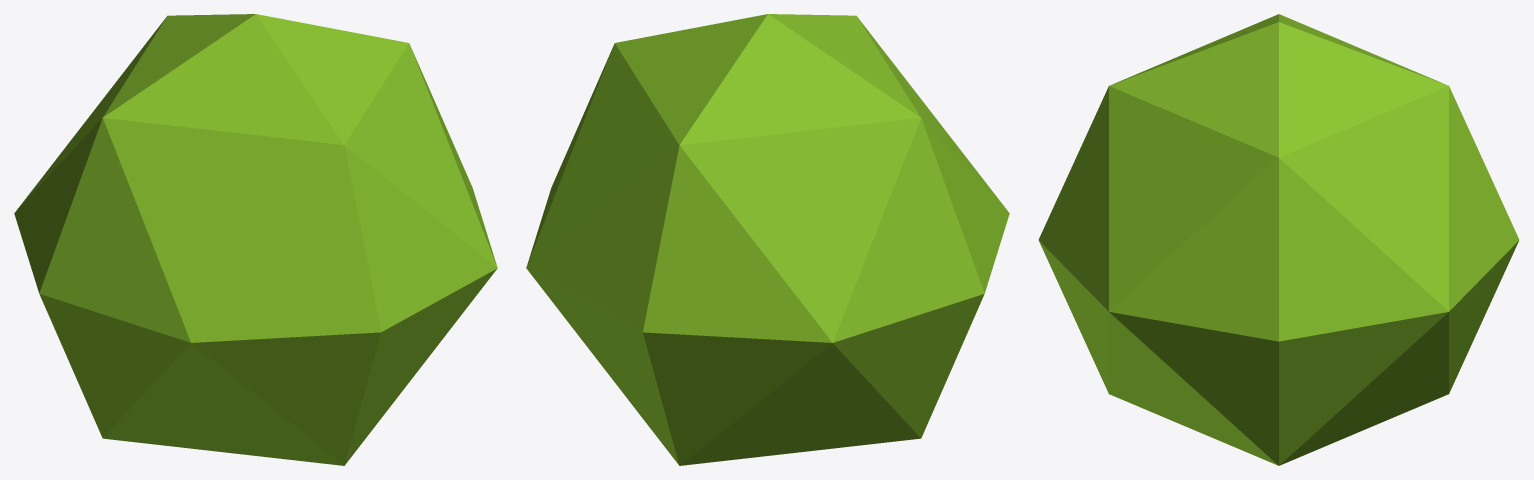
File: Shrub FBX.fbx
3 views of the same model, side by side, from view 1: azimuth 30°, elevation 25°; view 2: azimuth 150°, elevation 25°; view 3: azimuth 270°, elevation 25° (orthographic). The views are drawn at different scales.
Parts seen in each view (by area): view 1: Shrub_LOD0; view 2: Shrub_LOD0; view 3: Shrub_LOD0.
Boxes of the visible parts, box(x1,y1,x2,y2) form: Shrub_LOD0: box(14, 14, 497, 465); Shrub_LOD0: box(526, 14, 1009, 465); Shrub_LOD0: box(1038, 14, 1519, 465).
Size of what is drawn, in the model's own units: 40.83 by 37.19 by 40.83.
